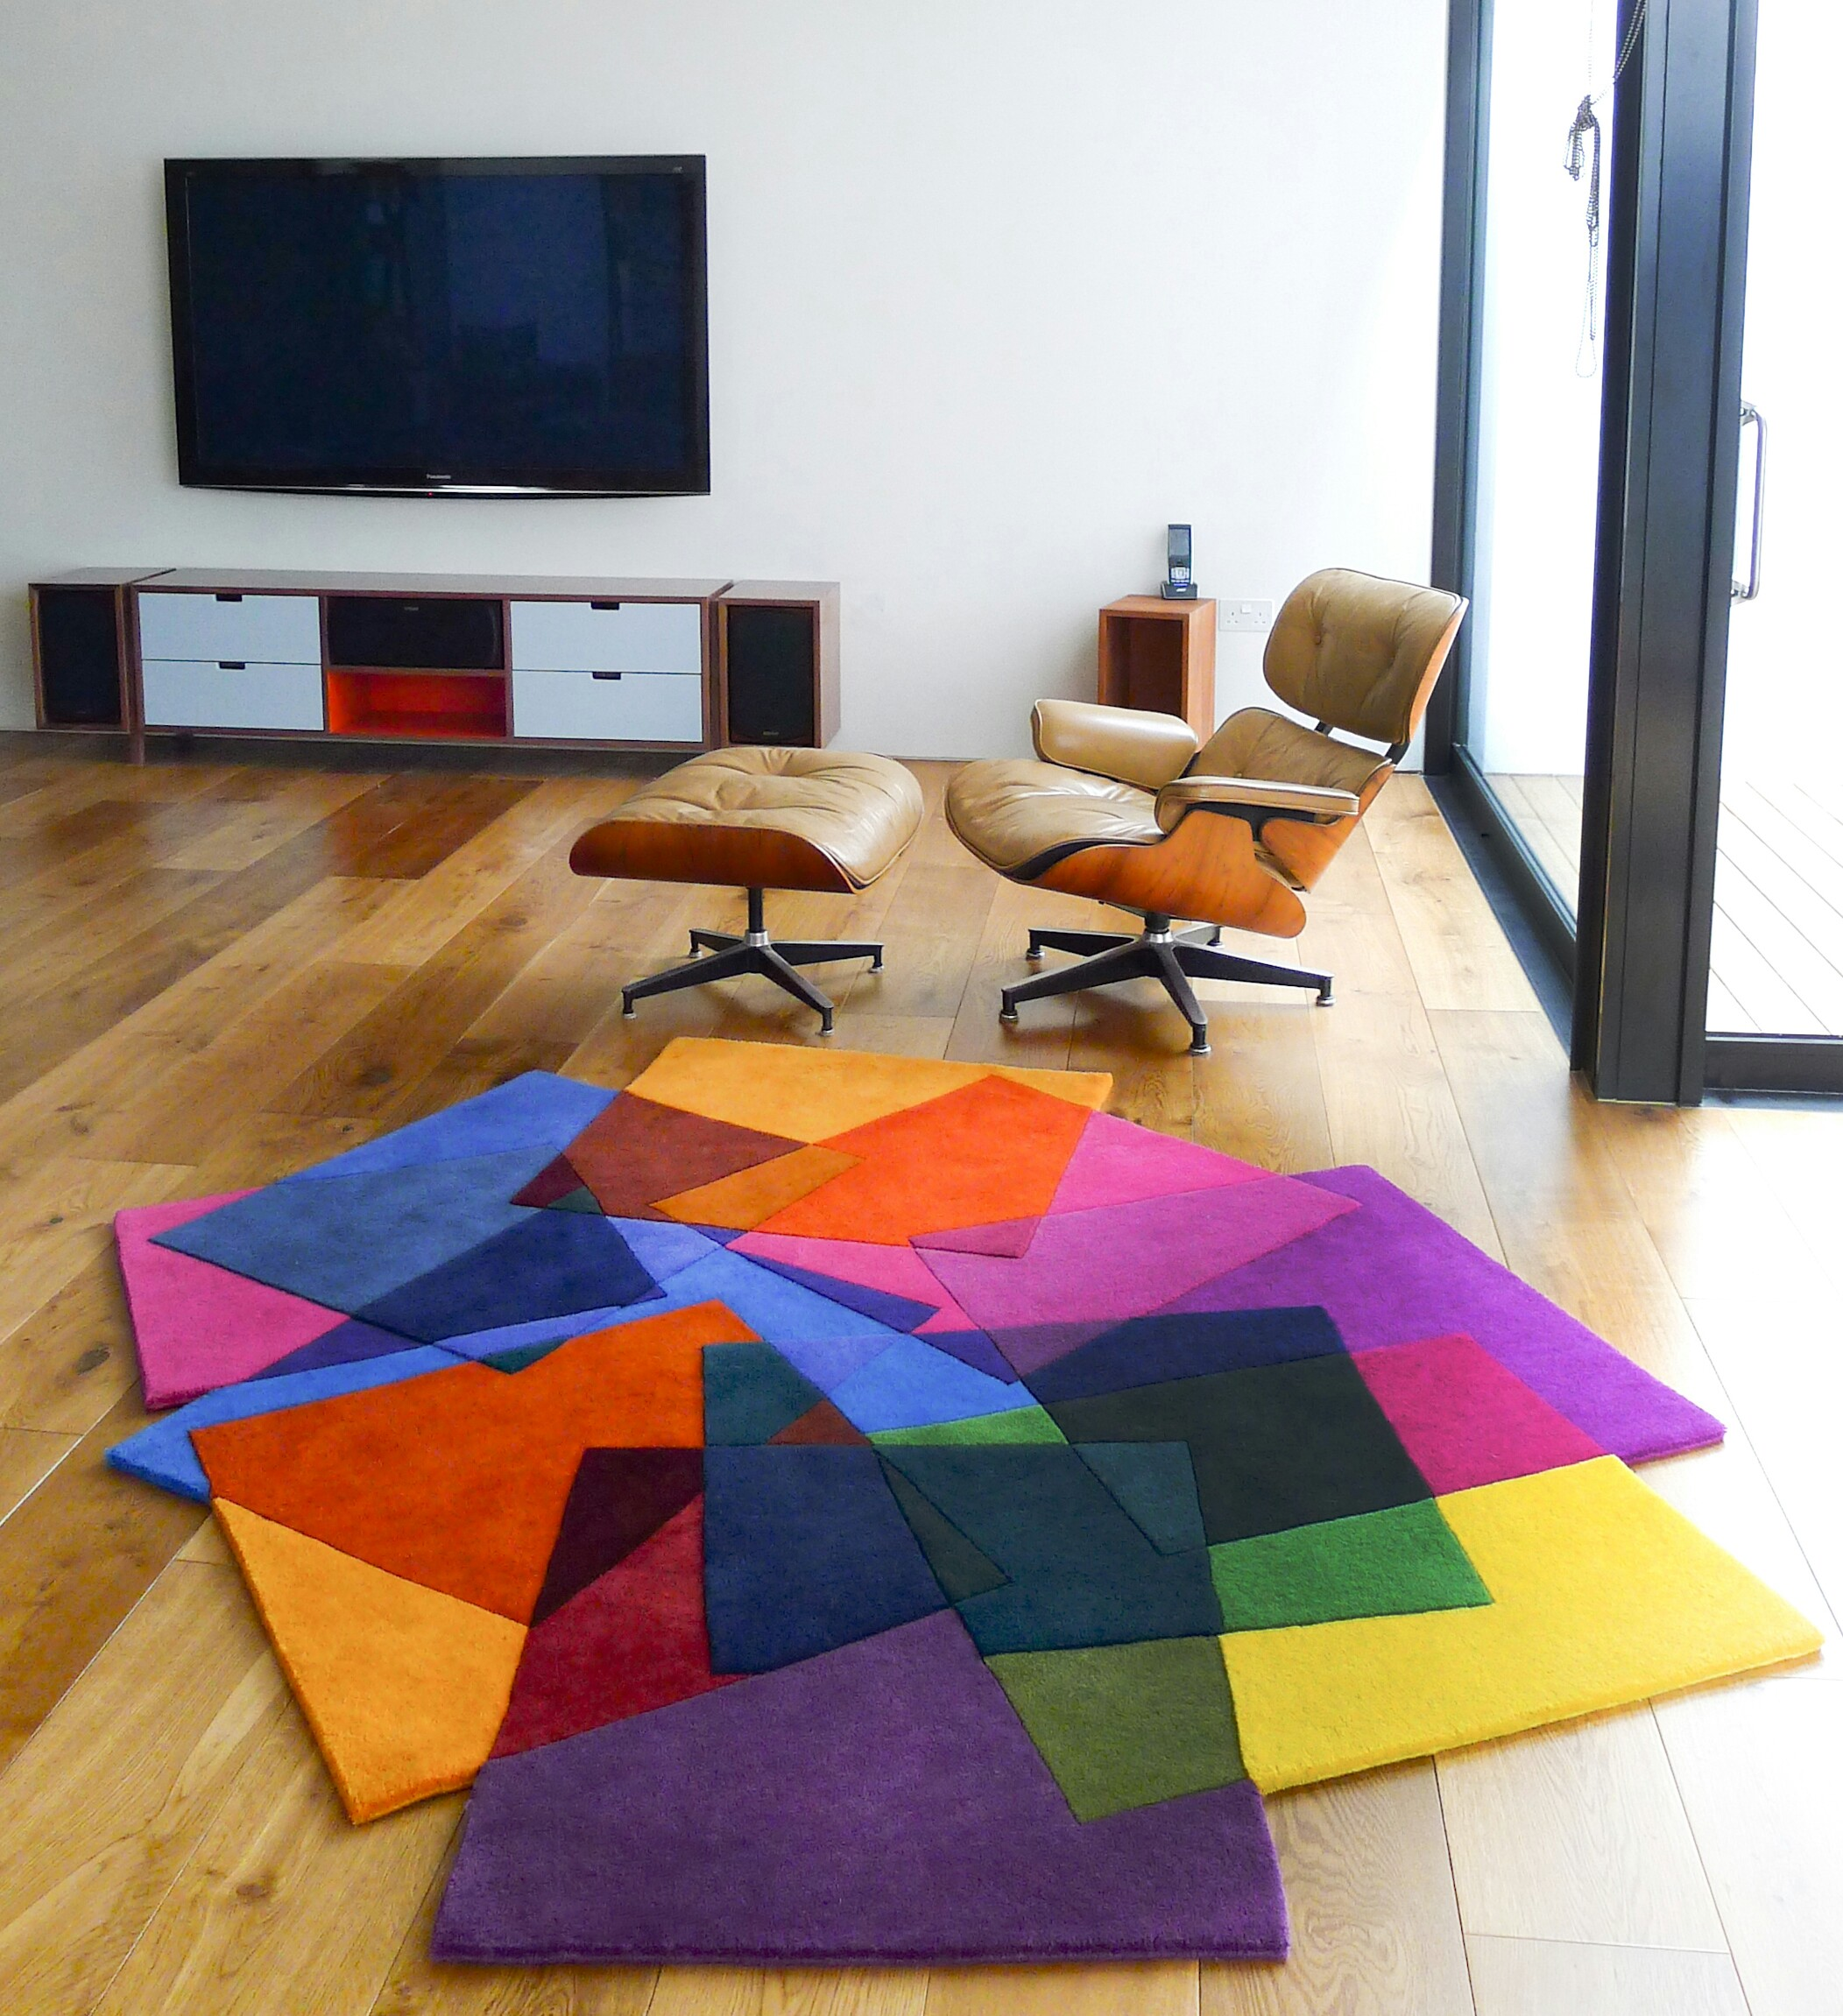coklat: (1096, 597, 1218, 709)
hitam: (169, 163, 717, 483)
putih: (508, 602, 703, 734), (144, 587, 322, 724)
